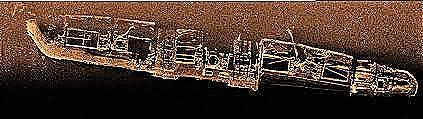ship: (24, 14, 419, 98)
